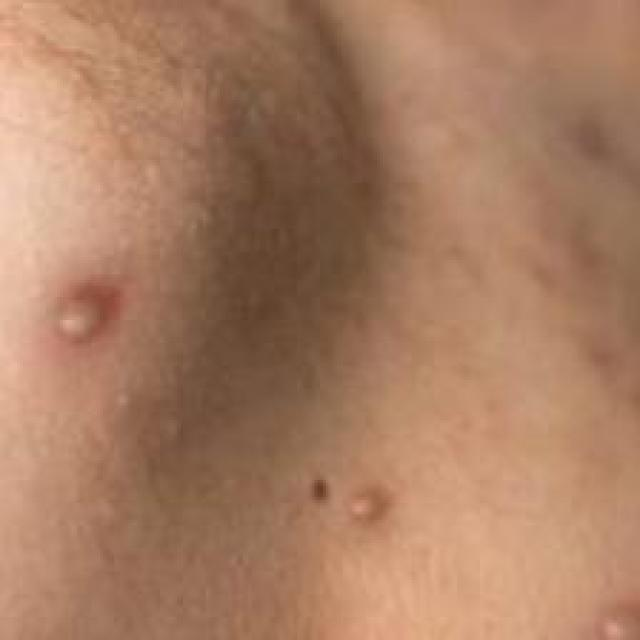monkeypox: (0, 123, 580, 620)
